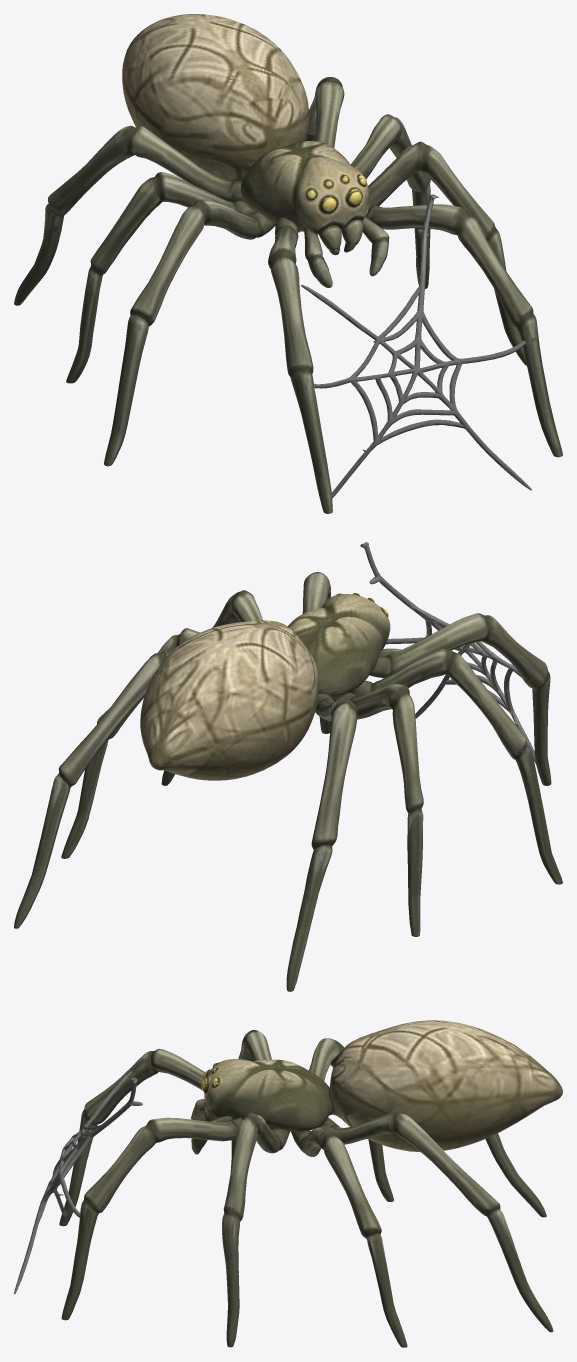
The model's file is web_spinner.glb.
3 renders of one model, top to bottom at view 1: azimuth 30°, elevation 25°; view 2: azimuth 150°, elevation 25°; view 3: azimuth 270°, elevation 25°, orthographic. The views are drawn at different scales.
Parts seen in each view (by area): view 1: Mesh_0; view 2: Mesh_0; view 3: Mesh_0.
Part boxes in pixels (x1,y1,x2,y2): Mesh_0: (14,14,562,513); Mesh_0: (14,542,562,991); Mesh_0: (14,1020,562,1347).
Size of the model in its own units: 1.41 by 0.9316 by 1.9.
1 material, 1 textured.
